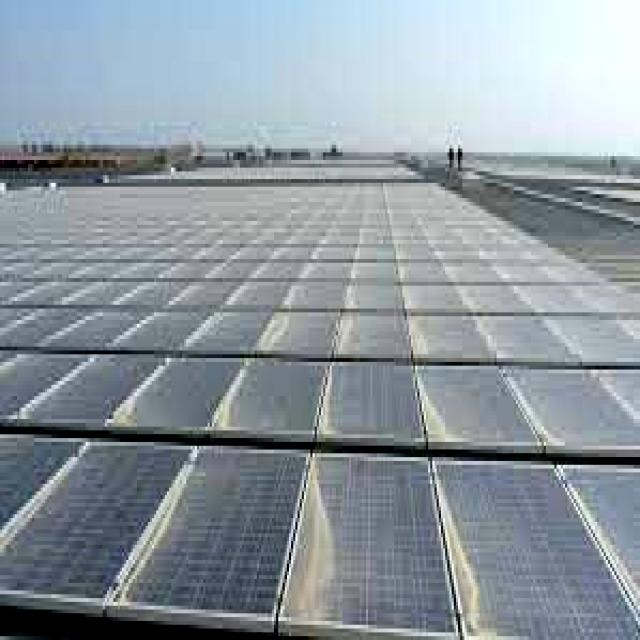dust: (158, 451, 279, 618), (302, 448, 408, 628), (10, 439, 120, 598), (82, 321, 182, 448), (426, 476, 501, 640), (570, 472, 636, 626), (297, 338, 398, 438), (206, 342, 280, 429), (406, 348, 484, 430), (506, 366, 576, 444)
